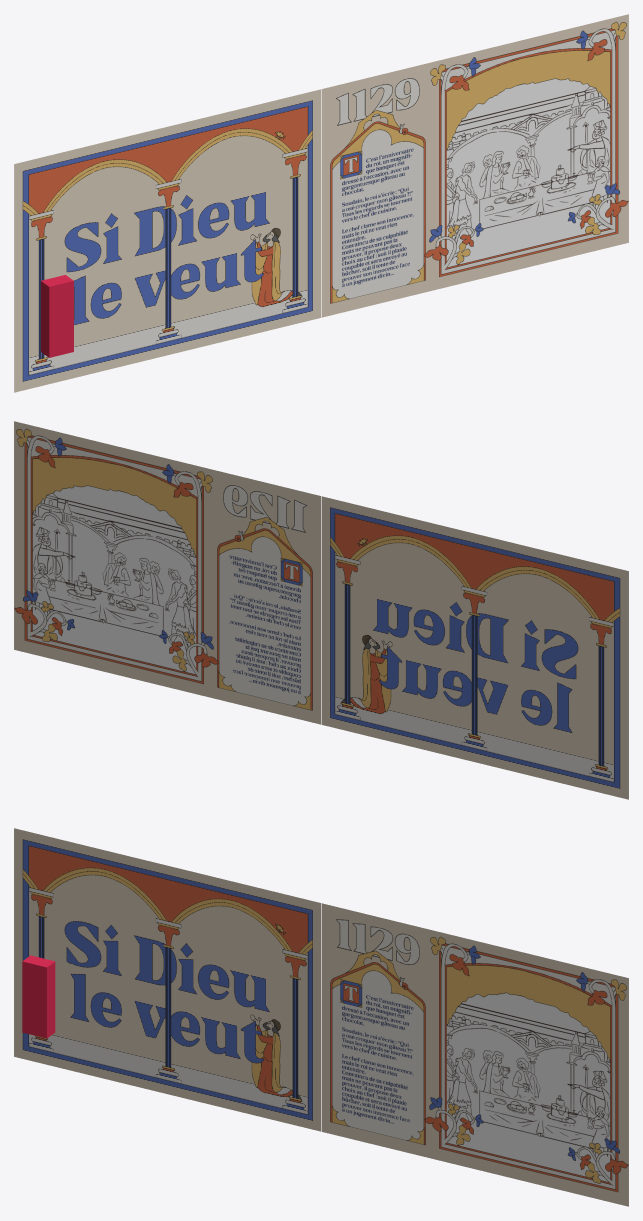
The model's file is intro.glb.
The picture shows the model from 3 angles, top to bottom: view 1: azimuth 30°, elevation 25°; view 2: azimuth 150°, elevation 25°; view 3: azimuth 330°, elevation 25°; orthographic projection.
Visible parts, largest first — view 1: intro context, splashscreen, character; view 2: splashscreen, intro context; view 3: intro context, splashscreen, character.
Boxes of the visible parts, bbox=[...] form: intro context: bbox=[322, 14, 628, 317]; splashscreen: bbox=[14, 89, 321, 392]; character: bbox=[41, 275, 73, 357]; splashscreen: bbox=[321, 496, 628, 799]; intro context: bbox=[14, 421, 320, 724]; intro context: bbox=[322, 903, 628, 1206]; splashscreen: bbox=[14, 828, 321, 1131]; character: bbox=[22, 955, 55, 1038].
Bounding box in the file's own units: 2.82 × 1 × 0.1066.
3 materials, 2 textured.
